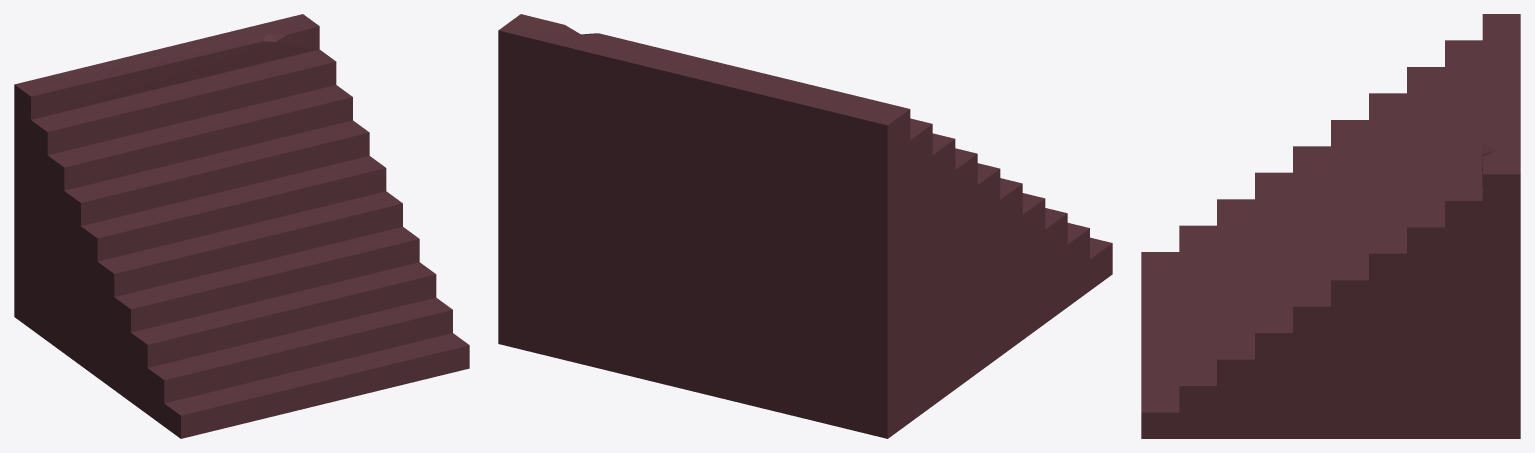
Rendered from SM_Stairs_3x3m_Corner_High_Empire.fbx.
The picture shows the model from 3 angles, left to right: view 1: azimuth 30°, elevation 25°; view 2: azimuth 150°, elevation 25°; view 3: azimuth 270°, elevation 25°; orthographic projection. The views are drawn at different scales.
Parts seen in each view (by area): view 1: SM_Stairs_3x3m_Corner_High_Empire; view 2: SM_Stairs_3x3m_Corner_High_Empire; view 3: SM_Stairs_3x3m_Corner_High_Empire.
Part boxes in pixels (<box>): SM_Stairs_3x3m_Corner_High_Empire: <box>14,14,469,438</box>; SM_Stairs_3x3m_Corner_High_Empire: <box>498,14,1112,438</box>; SM_Stairs_3x3m_Corner_High_Empire: <box>1141,14,1520,438</box>.
Size of the model in its own units: 3 by 2.31 by 3.
